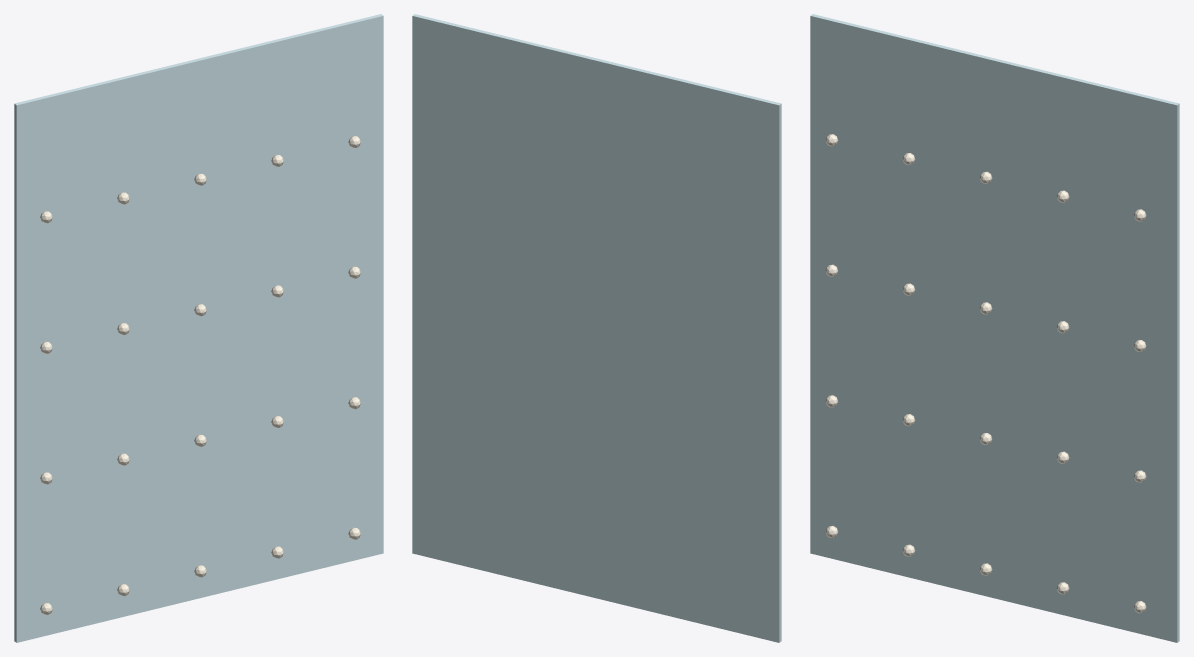
The model's file is cozy-home-interiors-snow-window-plane-f56c8449.glb.
3 views of the same model, side by side, from view 1: azimuth 30°, elevation 25°; view 2: azimuth 150°, elevation 25°; view 3: azimuth 330°, elevation 25° (orthographic).
Parts seen in each view (by area): view 1: snow-window-plane; view 2: snow-window-plane; view 3: snow-window-plane.
Part boxes in pixels (x1,y1,x2,y2): snow-window-plane: (14,14,383,642); snow-window-plane: (412,14,781,642); snow-window-plane: (810,14,1179,642).
Bounding box in the file's own units: 1 × 1.4 × 0.046.
